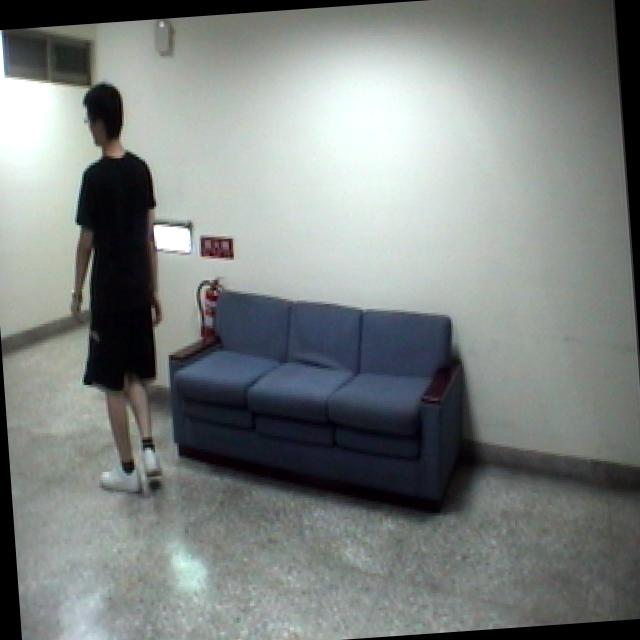stand: (51, 72, 180, 502)
